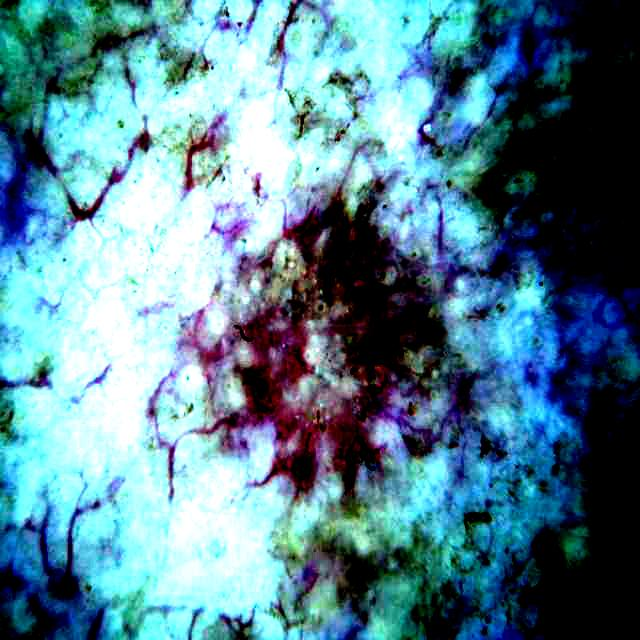AKIEC: (153, 142, 481, 637)
